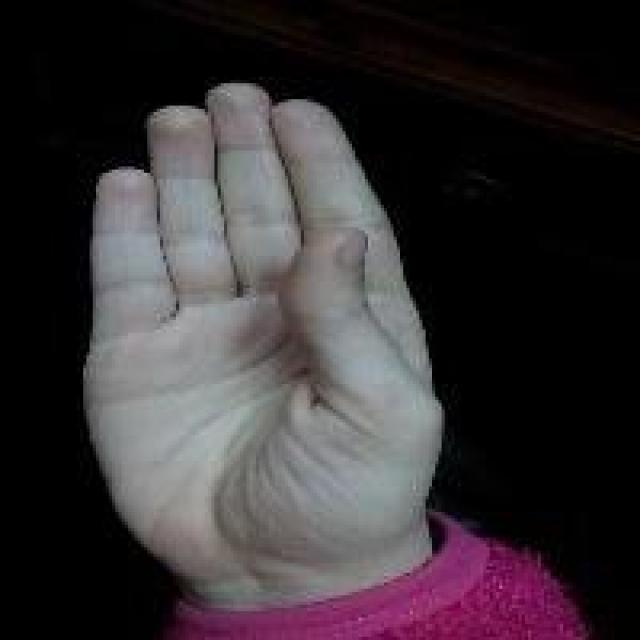B: (75, 74, 450, 576)
